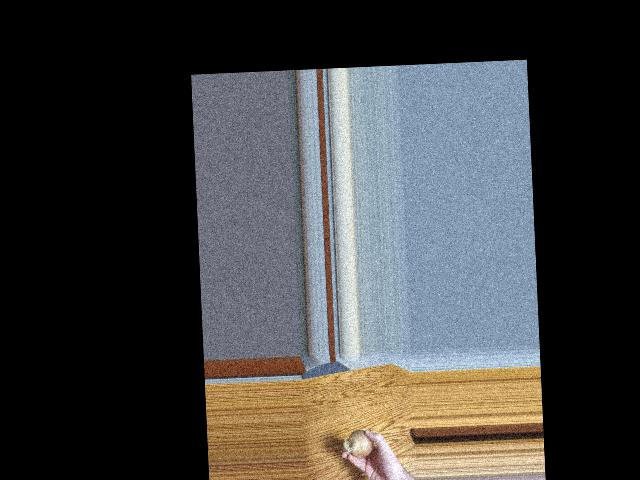onion: (348, 429, 374, 460)
